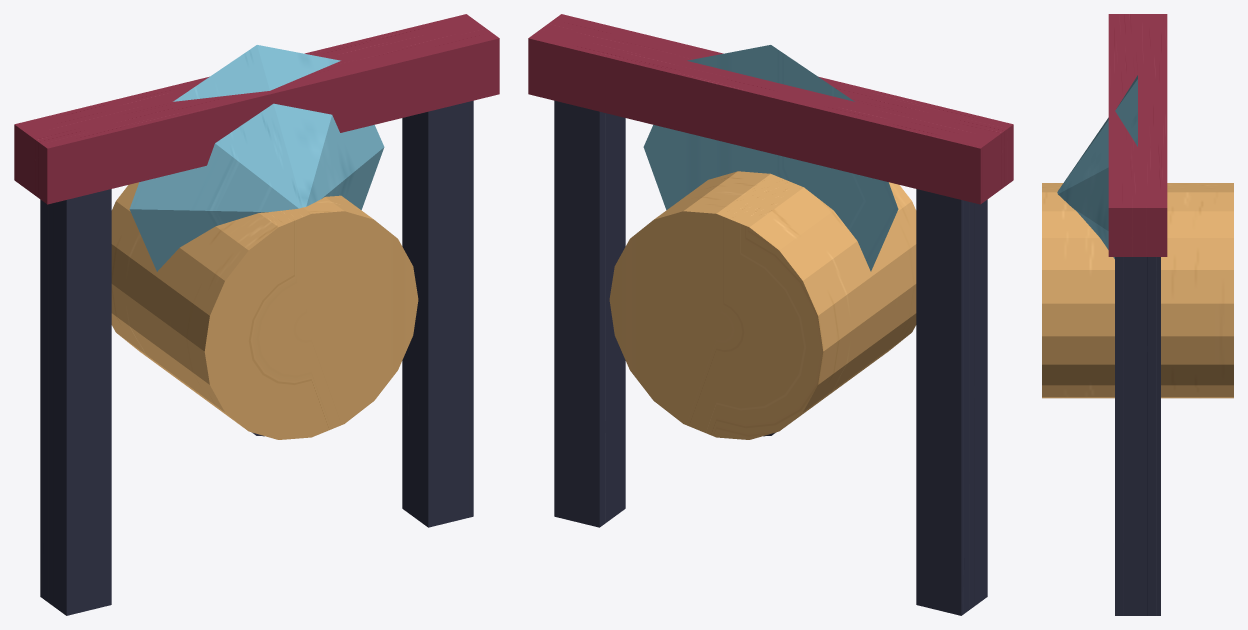
File: frozen_bell_lod0.glb
3 views of the same model, side by side, from view 1: azimuth 30°, elevation 25°; view 2: azimuth 150°, elevation 25°; view 3: azimuth 270°, elevation 25° (orthographic). The views are drawn at different scales.
Parts seen in each view (by area): view 1: gold_3, vermillion_2, wood_0, wood_1, ice_4; view 2: gold_3, vermillion_2, wood_0, wood_1, ice_4; view 3: gold_3, wood_1, vermillion_2, ice_4.
Part boxes in pixels (x1,y1,x2,y2): gold_3: (111, 182, 418, 439); vermillion_2: (14, 14, 499, 204); wood_0: (40, 189, 111, 615); wood_1: (402, 100, 473, 527); ice_4: (129, 45, 384, 271); gold_3: (609, 171, 916, 439); vermillion_2: (528, 14, 1013, 204); wood_0: (916, 189, 987, 615); wood_1: (554, 100, 625, 527); ice_4: (643, 45, 898, 271); gold_3: (1042, 183, 1233, 398); wood_1: (1115, 257, 1160, 615); vermillion_2: (1108, 14, 1167, 256); ice_4: (1057, 75, 1137, 258).
Size of the model in its own units: 5.5 by 5.95 by 2.3.
Materials: 4 (4 with a texture image).
